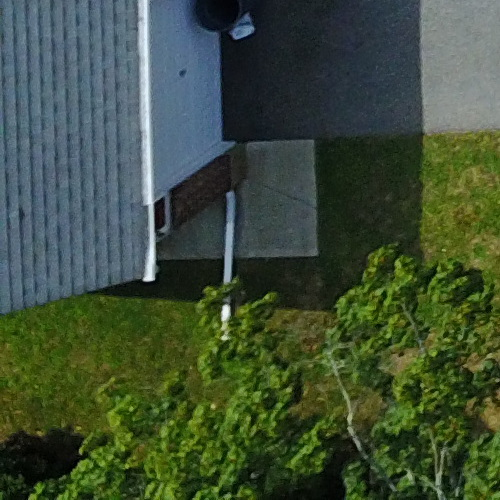gutter: (210, 180, 242, 354)
